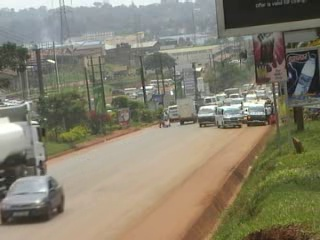Car: (0, 173, 67, 224)
